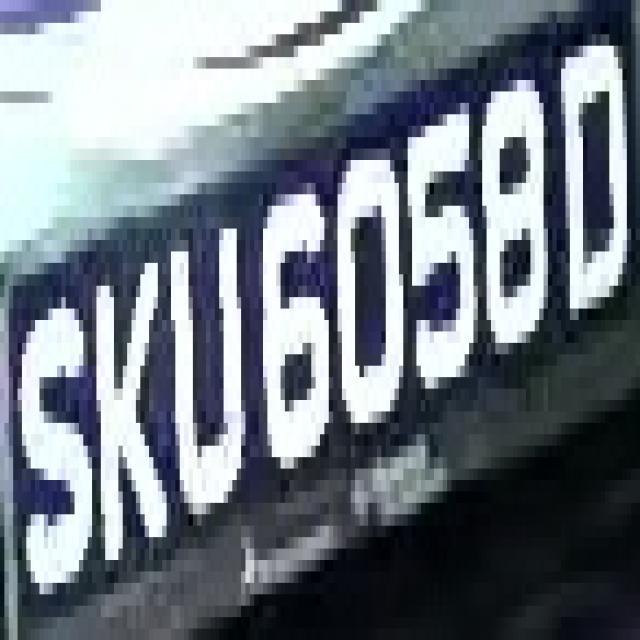0: (320, 114, 416, 480)
5: (403, 103, 478, 411)
6: (246, 160, 346, 491)
8: (478, 68, 557, 366)
D: (552, 46, 632, 343)
K: (83, 228, 171, 572)
S: (9, 274, 96, 617)
U: (154, 183, 258, 526)
